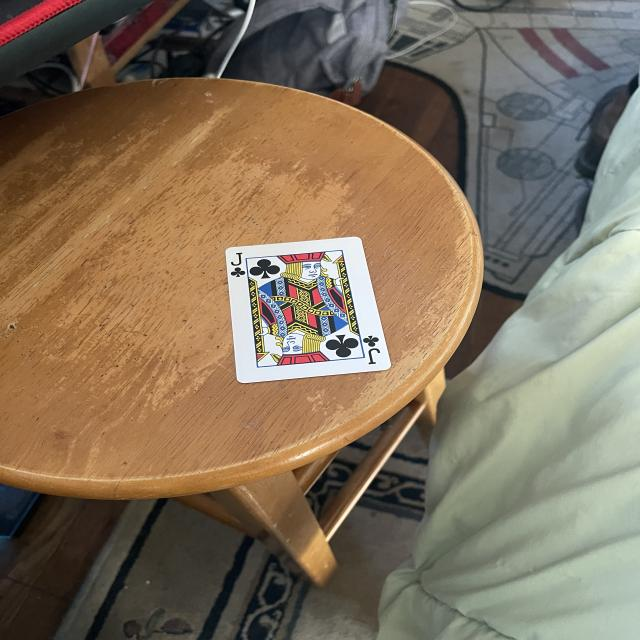Jack of clubs: (214, 233, 388, 397)
